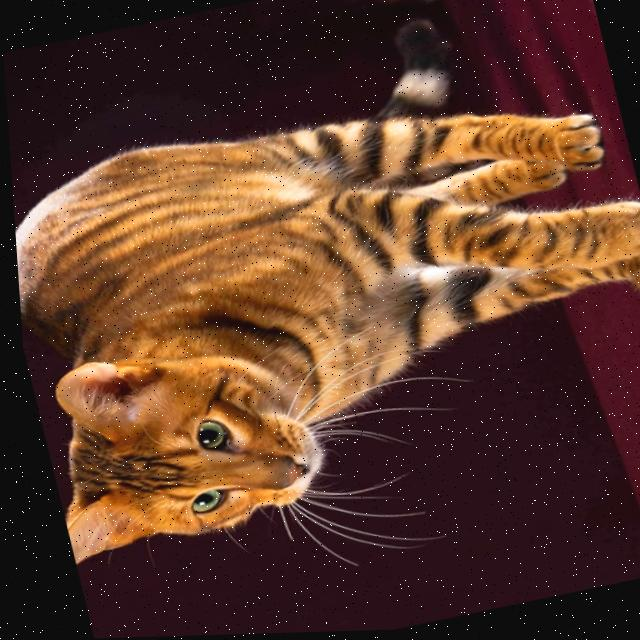Toyger: (0, 0, 640, 574)
